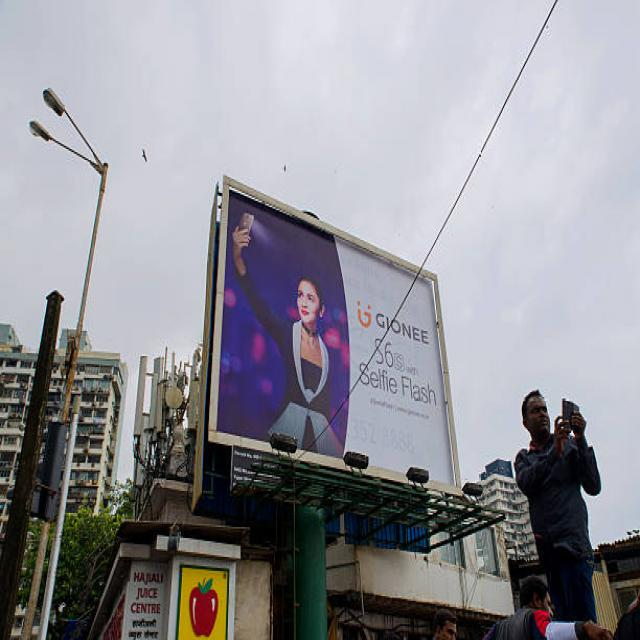Werbetafel frei: (204, 250, 464, 520)
